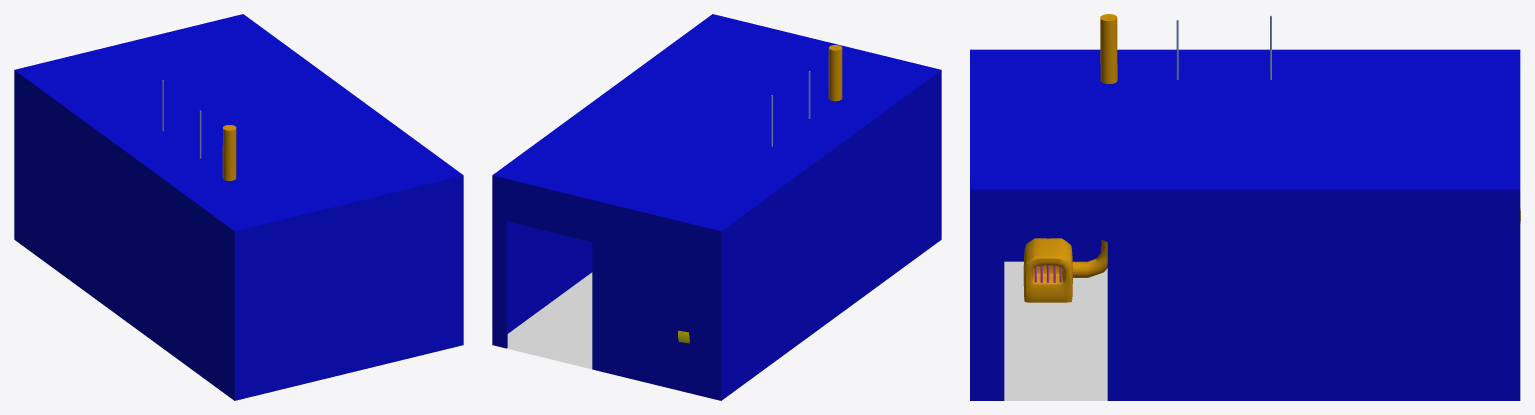
File: underground.fbx
The picture shows the model from 3 angles, left to right: view 1: azimuth 30°, elevation 25°; view 2: azimuth 150°, elevation 25°; view 3: azimuth 270°, elevation 25°; orthographic projection. The views are drawn at different scales.
Parts seen in each view (by area): view 1: underground_walls; view 2: underground_walls, undeground_floor; view 3: underground_walls, undeground_floor.
Boxes of the visible parts, x1,y1,x2,y2 form: underground_walls: [14, 14, 463, 400]; underground_walls: [492, 14, 941, 400]; undeground_floor: [507, 272, 592, 369]; underground_walls: [970, 14, 1520, 400]; undeground_floor: [1004, 261, 1107, 400].
Size of the model in its own units: 600 by 576 by 1001.
